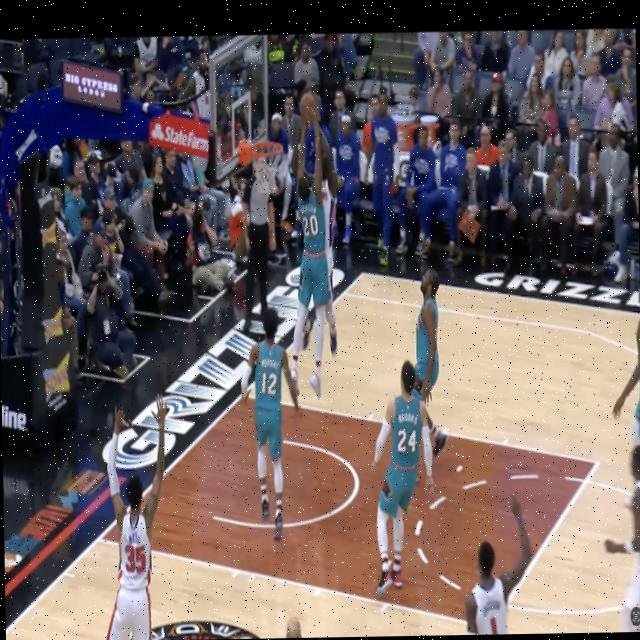foul: (288, 92, 344, 408)
no foul: (367, 268, 458, 585), (235, 308, 298, 527)
